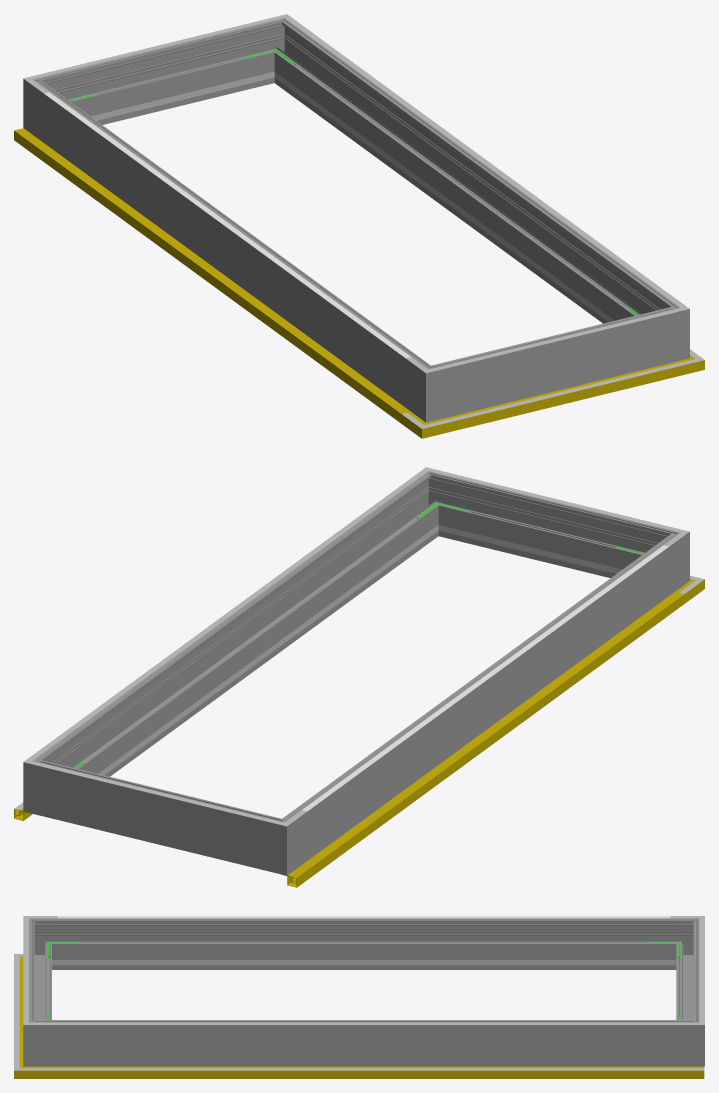
3 views of the same model, one above another, from view 1: azimuth 30°, elevation 25°; view 2: azimuth 150°, elevation 25°; view 3: azimuth 270°, elevation 25° (orthographic). The views are drawn at different scales.
Parts seen in each view (by area): view 1: 3DGeom-298, 3DGeom-269, 3DGeom-277, 3DGeom-299, 3DGeom-6, 3DGeom-271, 3DGeom-11, 3DGeom-25, 3DGeom-314, 3DGeom-304, 3DGeom-238, 3DGeom-291 (+7 smaller); view 2: 3DGeom-298, 3DGeom-269, 3DGeom-299, 3DGeom-277, 3DGeom-6, 3DGeom-279, 3DGeom-25, 3DGeom-314, 3DGeom-304, 3DGeom-238, 3DGeom-285, 3DGeom-291 (+4 smaller); view 3: 3DGeom-269, 3DGeom-298, 3DGeom-16, 3DGeom-233, 3DGeom-18, 3DGeom-304, 3DGeom-314, 3DGeom-285, 3DGeom-277, 3DGeom-291, 3DGeom-299, 3DGeom-279 (+6 smaller).
Boxes of the visible parts, x1,y1,x2,y2 form: 3DGeom-298: (278,30,663,323); 3DGeom-269: (43,90,416,407); 3DGeom-277: (62,25,268,124); 3DGeom-299: (455,312,654,413); 3DGeom-6: (14,128,410,423); 3DGeom-271: (405,355,461,422); 3DGeom-11: (452,364,669,429); 3DGeom-25: (14,129,406,413); 3DGeom-314: (44,92,410,358); 3DGeom-304: (302,29,668,295); 3DGeom-238: (294,86,614,321); 3DGeom-291: (648,295,689,366); 3DGeom-298: (47,483,434,776); 3DGeom-269: (296,544,669,860); 3DGeom-299: (444,478,650,577); 3DGeom-277: (58,766,257,866); 3DGeom-6: (282,592,684,887); 3DGeom-279: (251,809,307,875); 3DGeom-25: (291,593,683,878); 3DGeom-314: (302,545,668,811); 3DGeom-304: (44,482,410,748); 3DGeom-238: (98,539,418,775); 3DGeom-285: (23,748,64,819); 3DGeom-291: (408,471,457,538); 3DGeom-269: (58,918,670,969); 3DGeom-298: (58,1020,670,1066); 3DGeom-16: (48,1066,704,1078); 3DGeom-233: (85,960,642,965); 3DGeom-18: (48,1068,704,1070); 3DGeom-304: (58,1022,670,1024); 3DGeom-314: (58,916,670,918); 3DGeom-285: (670,1010,704,1066); 3DGeom-277: (676,930,699,1019); 3DGeom-291: (23,1010,57,1066); 3DGeom-299: (29,930,51,1019); 3DGeom-279: (670,918,699,969).
Size of the model in its own units: 1.22 by 0.2434 by 3.05.
